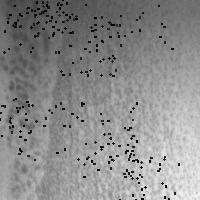pitted_surface: (48, 2, 198, 198), (1, 1, 51, 184), (60, 15, 120, 75), (17, 102, 77, 159), (83, 120, 141, 177), (81, 102, 136, 161), (119, 151, 178, 200), (3, 0, 58, 51), (116, 0, 171, 48), (34, 0, 88, 41), (0, 98, 31, 156), (6, 0, 66, 26)
